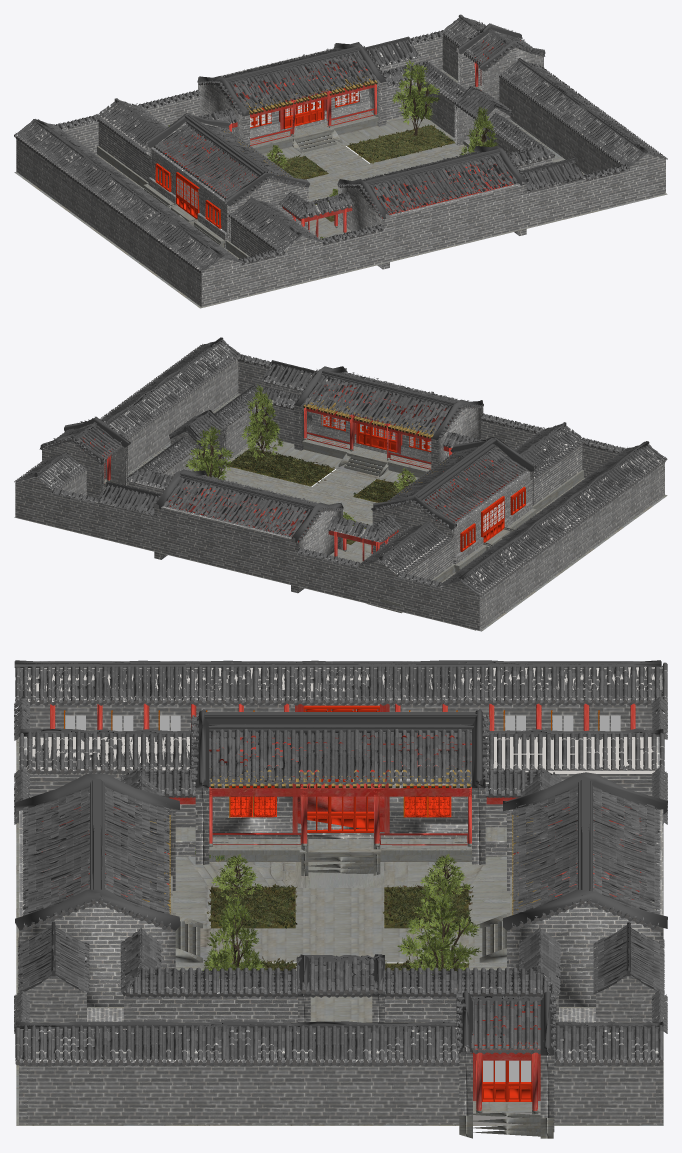
File: traditional_chinese_siheyuan_courtyard.glb
3 renders of one model, top to bottom at view 1: azimuth 30°, elevation 25°; view 2: azimuth 150°, elevation 25°; view 3: azimuth 270°, elevation 25°, orthographic. The views are drawn at different scales.
Parts seen in each view (by area): view 1: Object_4, Object_17, Object_15, Object_5, Object_26, Object_21, Object_14, Object_20, Object_27, Object_11, Object_32, Object_13 (+11 smaller); view 2: Object_4, Object_17, Object_15, Object_5, Object_26, Object_21, Object_14, Object_20, Object_11, Object_27, Object_32, Object_13 (+11 smaller); view 3: Object_4, Object_17, Object_5, Object_15, Object_26, Object_21, Object_14, Object_20, Object_27, Object_11, Object_13, Object_32 (+12 smaller).
Part boxes in pixels (left/top/right/bottom): Object_4: left=16, top=21, right=665, bottom=307; Object_17: left=22, top=17, right=664, bottom=270; Object_15: left=17, top=17, right=655, bottom=266; Object_5: left=14, top=70, right=667, bottom=308; Object_26: left=34, top=14, right=647, bottom=257; Object_21: left=25, top=21, right=627, bottom=242; Object_14: left=14, top=22, right=667, bottom=272; Object_20: left=27, top=34, right=659, bottom=267; Object_27: left=163, top=40, right=520, bottom=237; Object_11: left=168, top=59, right=498, bottom=239; Object_32: left=155, top=58, right=487, bottom=228; Object_13: left=14, top=22, right=667, bottom=272; Object_4: left=15, top=344, right=664, bottom=630; Object_17: left=25, top=341, right=663, bottom=589; Object_15: left=19, top=343, right=657, bottom=593; Object_5: left=14, top=393, right=667, bottom=631; Object_26: left=34, top=337, right=649, bottom=580; Object_21: left=27, top=355, right=626, bottom=587; Object_14: left=16, top=345, right=666, bottom=595; Object_20: left=54, top=339, right=659, bottom=586; Object_11: left=184, top=384, right=416, bottom=525; Object_27: left=83, top=384, right=518, bottom=561; Object_32: left=321, top=411, right=525, bottom=551; Object_13: left=14, top=345, right=667, bottom=596; Object_4: left=19, top=667, right=663, bottom=1131; Object_17: left=15, top=662, right=667, bottom=1059; Object_5: left=16, top=738, right=664, bottom=1138; Object_15: left=17, top=662, right=667, bottom=1058; Object_26: left=14, top=660, right=667, bottom=1055; Object_21: left=29, top=666, right=653, bottom=1052; Object_14: left=14, top=696, right=667, bottom=1062; Object_20: left=15, top=662, right=664, bottom=1059; Object_27: left=42, top=703, right=641, bottom=1110; Object_11: left=202, top=854, right=481, bottom=977; Object_13: left=14, top=699, right=667, bottom=1065; Object_32: left=229, top=705, right=532, bottom=1101.
Size of the model in its own units: 17.02 by 2.8 by 11.5.
Materials: 26 (21 with a texture image).
